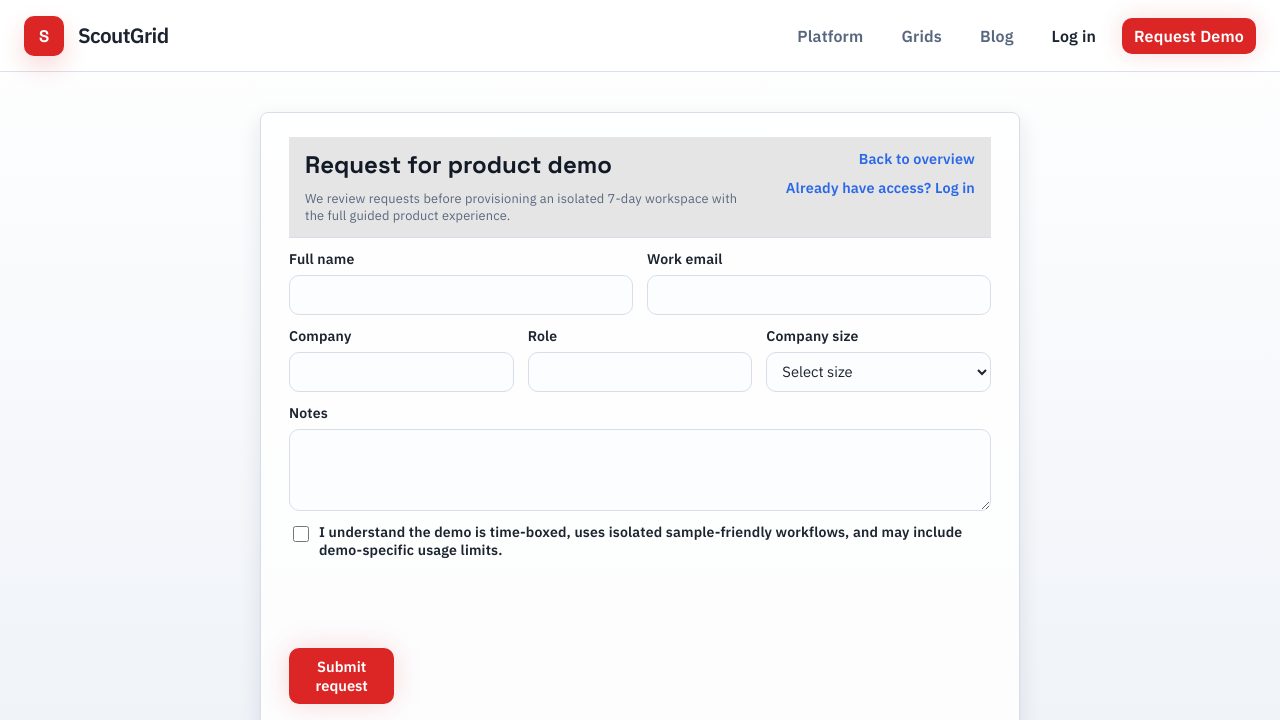
Test: Demo public pages › rejects free email providers before submitting a demo request
In the field labelled "Full name": (461, 294) [289,274,633,314], type "Alex Rivera"
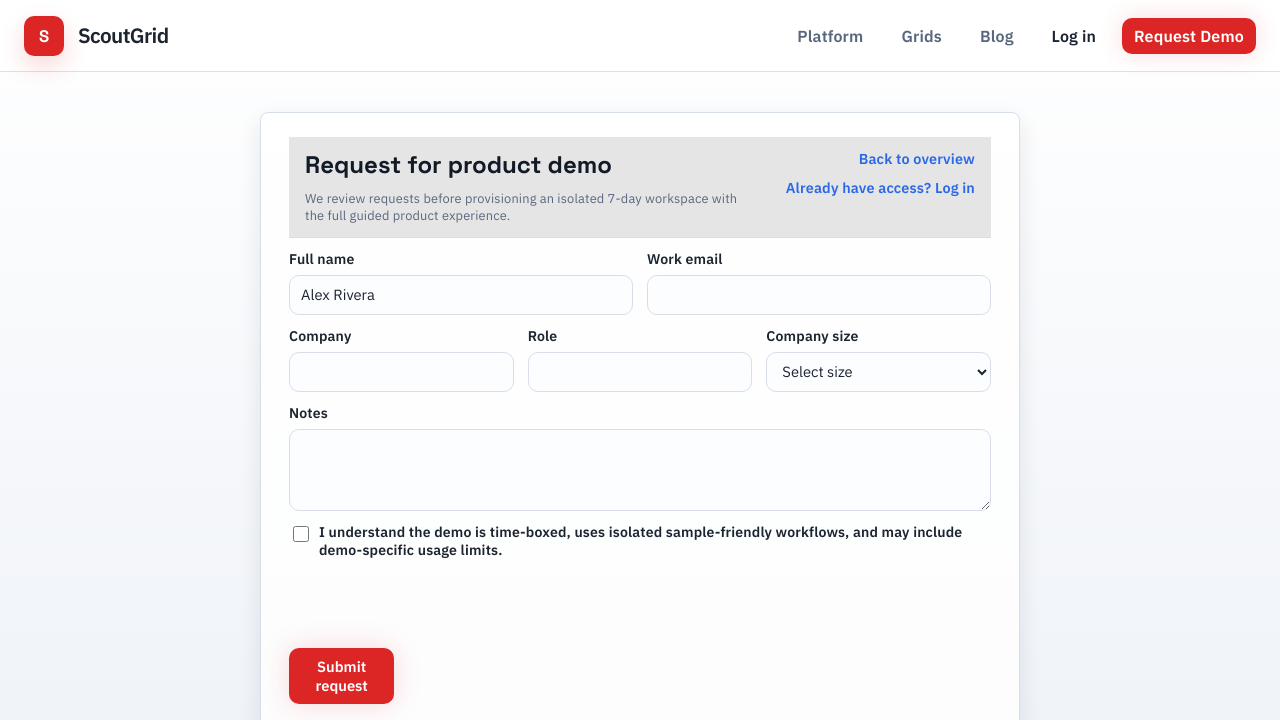
In the field labelled "Work email": (819, 294) [647,274,991,314], type "alex@gmail.com"
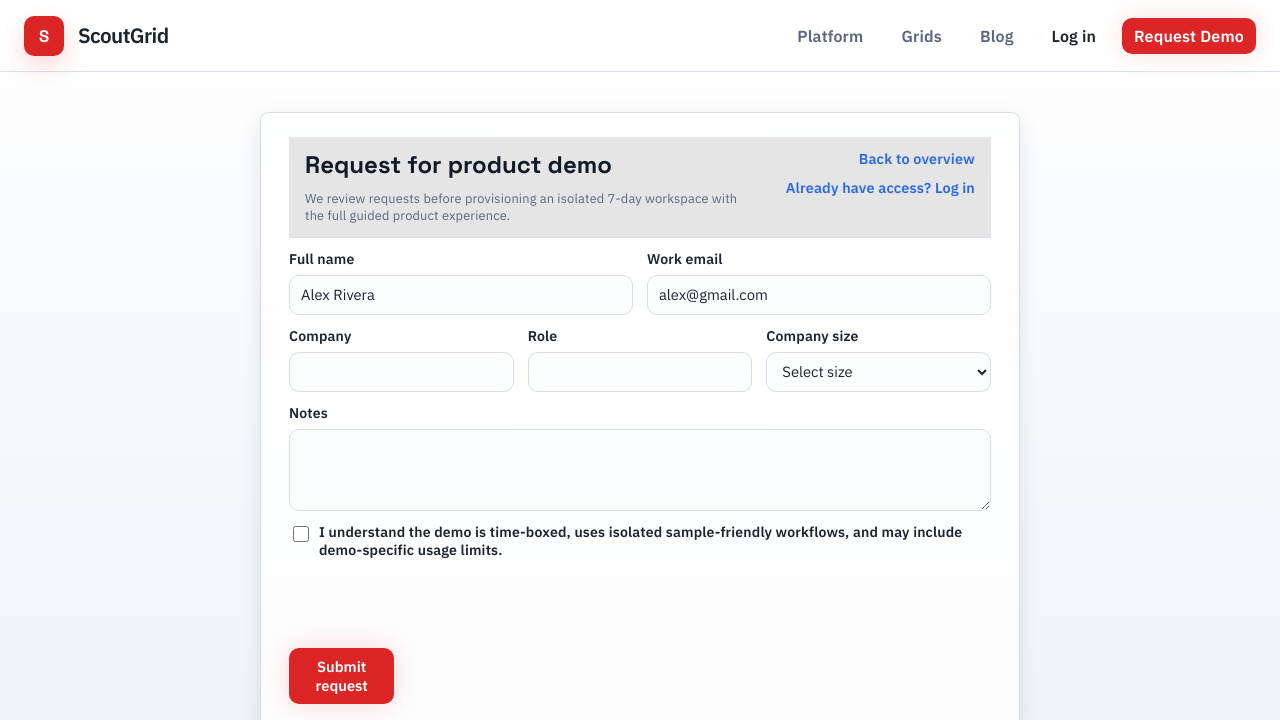
In the field labelled "Company": (401, 372) [289,352,514,392], type "Example Co"
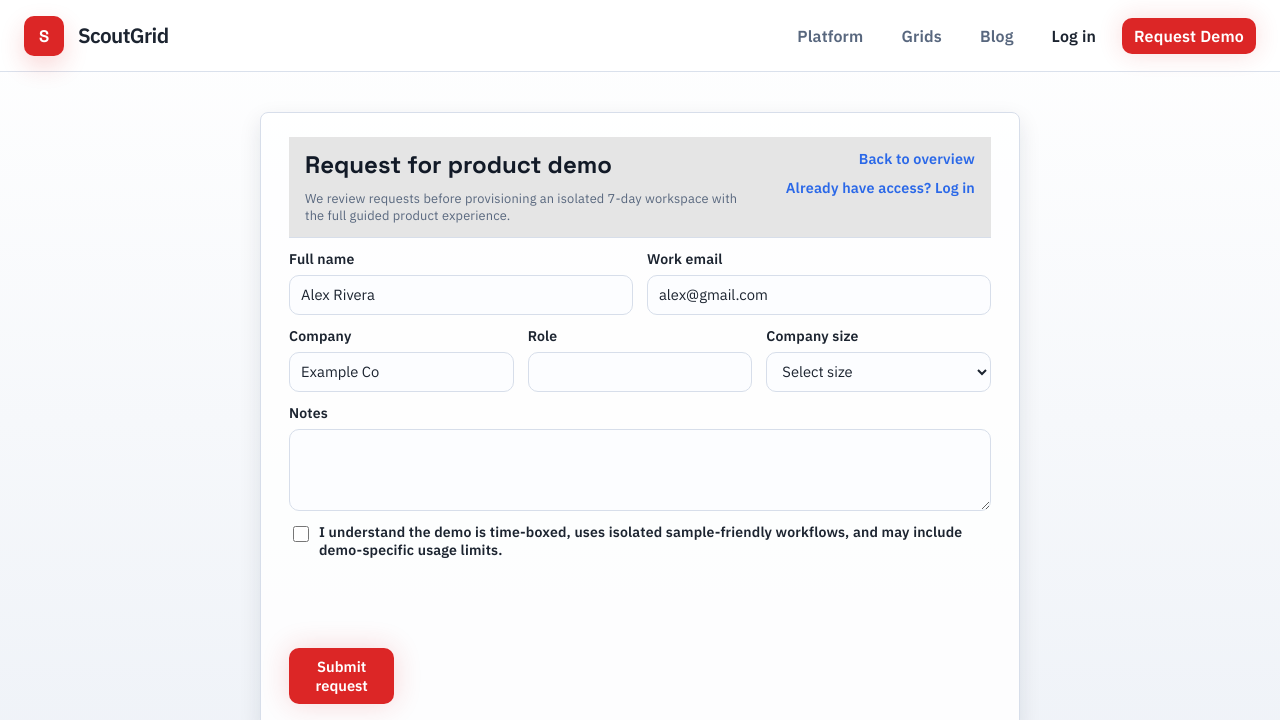
Click the checkbox labelled "I understand": (301, 534) [293,526,309,542]
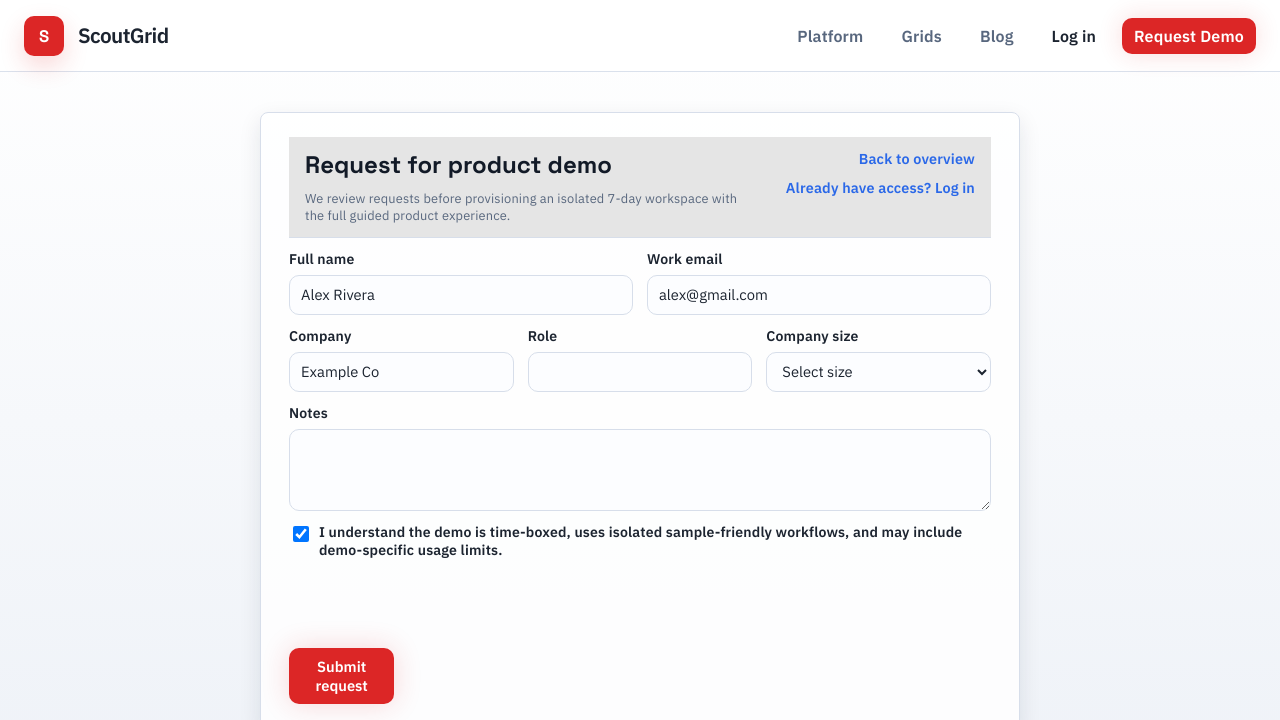
Click the button "Submit request": (342, 676) [289,648,394,704]
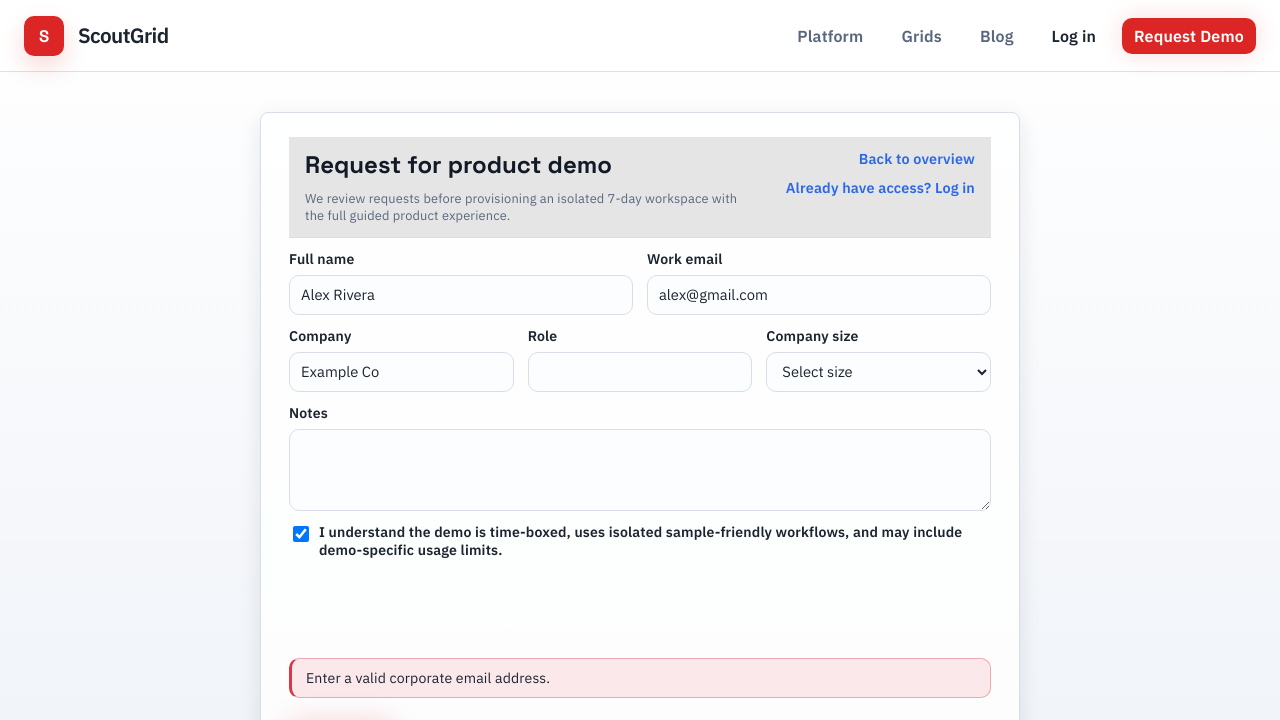
Expected: the message does not show "free email providers", [289,658,991,698]
Result: the message reads "Enter a valid corporate email address." at [306,668,550,686]
